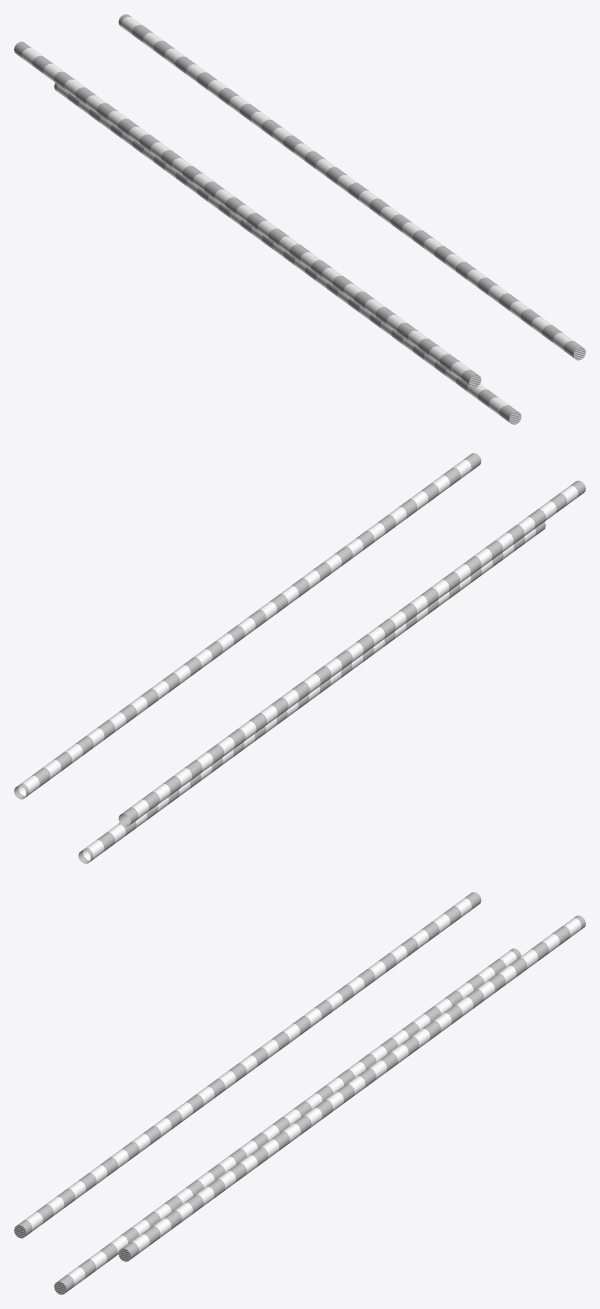
Rendered from Rail_Right_Long_Mid_Gap.fbx.
The picture shows the model from 3 angles, top to bottom: view 1: azimuth 30°, elevation 25°; view 2: azimuth 150°, elevation 25°; view 3: azimuth 330°, elevation 25°; orthographic projection.
Visible parts, largest first — view 1: Rail_Right_Long_Mid_Gap; view 2: Rail_Right_Long_Mid_Gap; view 3: Rail_Right_Long_Mid_Gap.
Part boxes in pixels (box(x1,y1,x2,y2)): Rail_Right_Long_Mid_Gap: box(14, 14, 585, 424); Rail_Right_Long_Mid_Gap: box(14, 453, 585, 863); Rail_Right_Long_Mid_Gap: box(14, 892, 585, 1294).
Bounding box in the file's own units: 74.23 × 500 × 37.48.
1 material, 1 textured.
